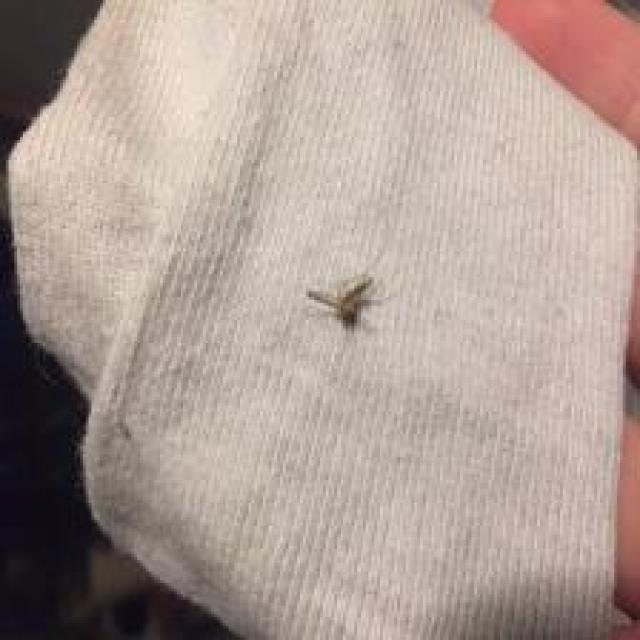Culex: (306, 272, 383, 332)
